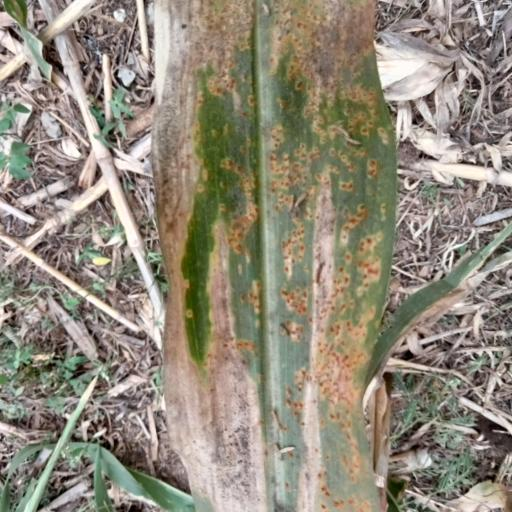Corn_Rust: (135, 0, 407, 512)
